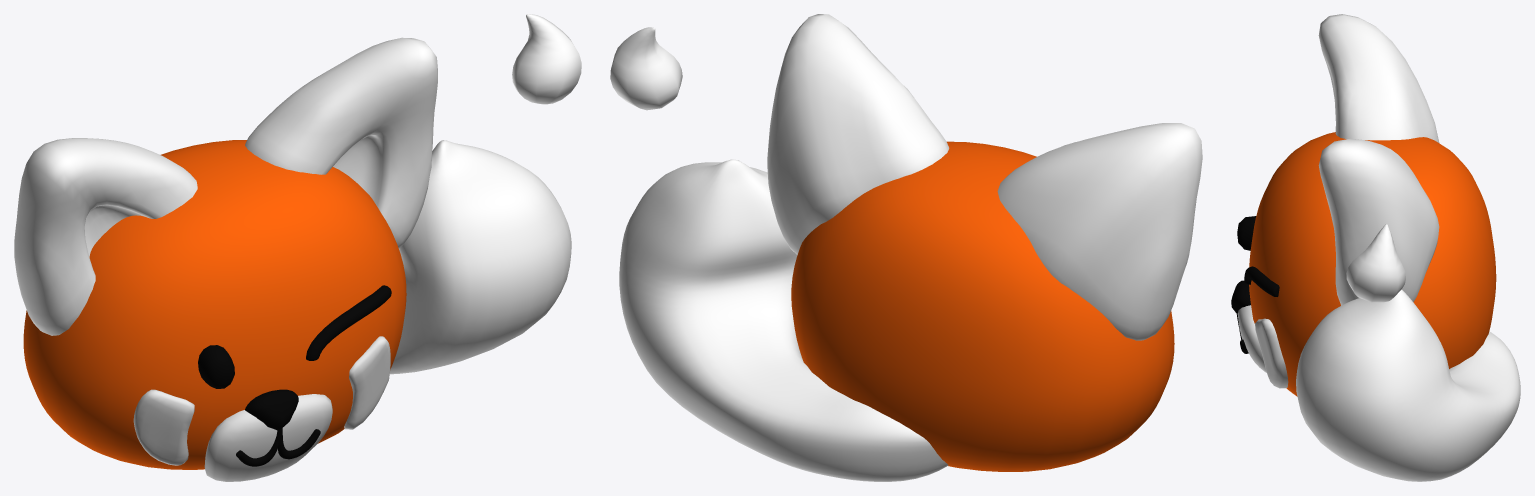
File: panda_inst.glb
The picture shows the model from 3 angles, left to right: view 1: azimuth 30°, elevation 25°; view 2: azimuth 150°, elevation 25°; view 3: azimuth 270°, elevation 25°; orthographic projection. The views are drawn at different scales.
Visible parts, largest first — view 1: Cube, Cube.003, Cube.001, Cube.002, Cube.007, Cube.004, Plane.001, Plane, BezierCurve, Cube.008, Cube.006, BezierCurve.001; view 2: Cube, Cube.003, Cube.002, Cube.001, Cube.004; view 3: Cube.003, Cube, Cube.001, Cube.002, Cube.004, Plane, Cube.007, BezierCurve, Cube.006, Cube.008.
Boxes of the visible parts, <box> form: Cube: <box>23,140,406,469</box>; Cube.003: <box>389,140,571,374</box>; Cube.001: <box>245,37,437,248</box>; Cube.002: <box>14,138,197,335</box>; Cube.007: <box>204,394,332,481</box>; Cube.004: <box>512,14,581,104</box>; Plane.001: <box>133,389,194,465</box>; Plane: <box>344,336,390,429</box>; BezierCurve: <box>306,285,391,360</box>; Cube.008: <box>245,389,298,430</box>; Cube.006: <box>198,345,234,388</box>; BezierCurve.001: <box>236,428,320,466</box>; Cube: <box>791,141,1174,471</box>; Cube.003: <box>619,159,948,481</box>; Cube.002: <box>997,123,1202,340</box>; Cube.001: <box>767,14,949,254</box>; Cube.004: <box>610,27,682,110</box>; Cube.003: <box>1296,289,1520,481</box>; Cube: <box>1249,132,1496,396</box>; Cube.001: <box>1318,138,1439,305</box>; Cube.002: <box>1318,14,1439,142</box>; Cube.004: <box>1346,224,1405,302</box>; Plane: <box>1255,318,1288,388</box>; Cube.007: <box>1237,305,1266,372</box>; BezierCurve: <box>1244,266,1279,296</box>; Cube.006: <box>1237,216,1256,250</box>; Cube.008: <box>1231,280,1250,313</box>.
Size of the model in its own units: 5.1 by 3.2 by 2.67.
